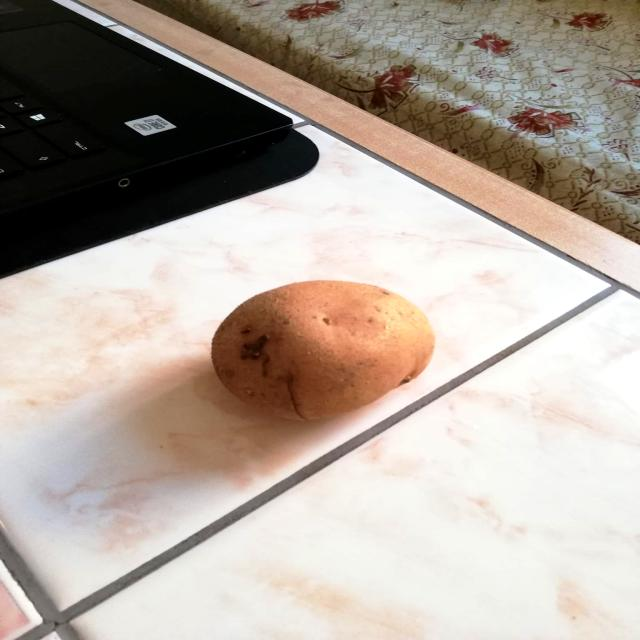potato: (198, 278, 448, 424)
